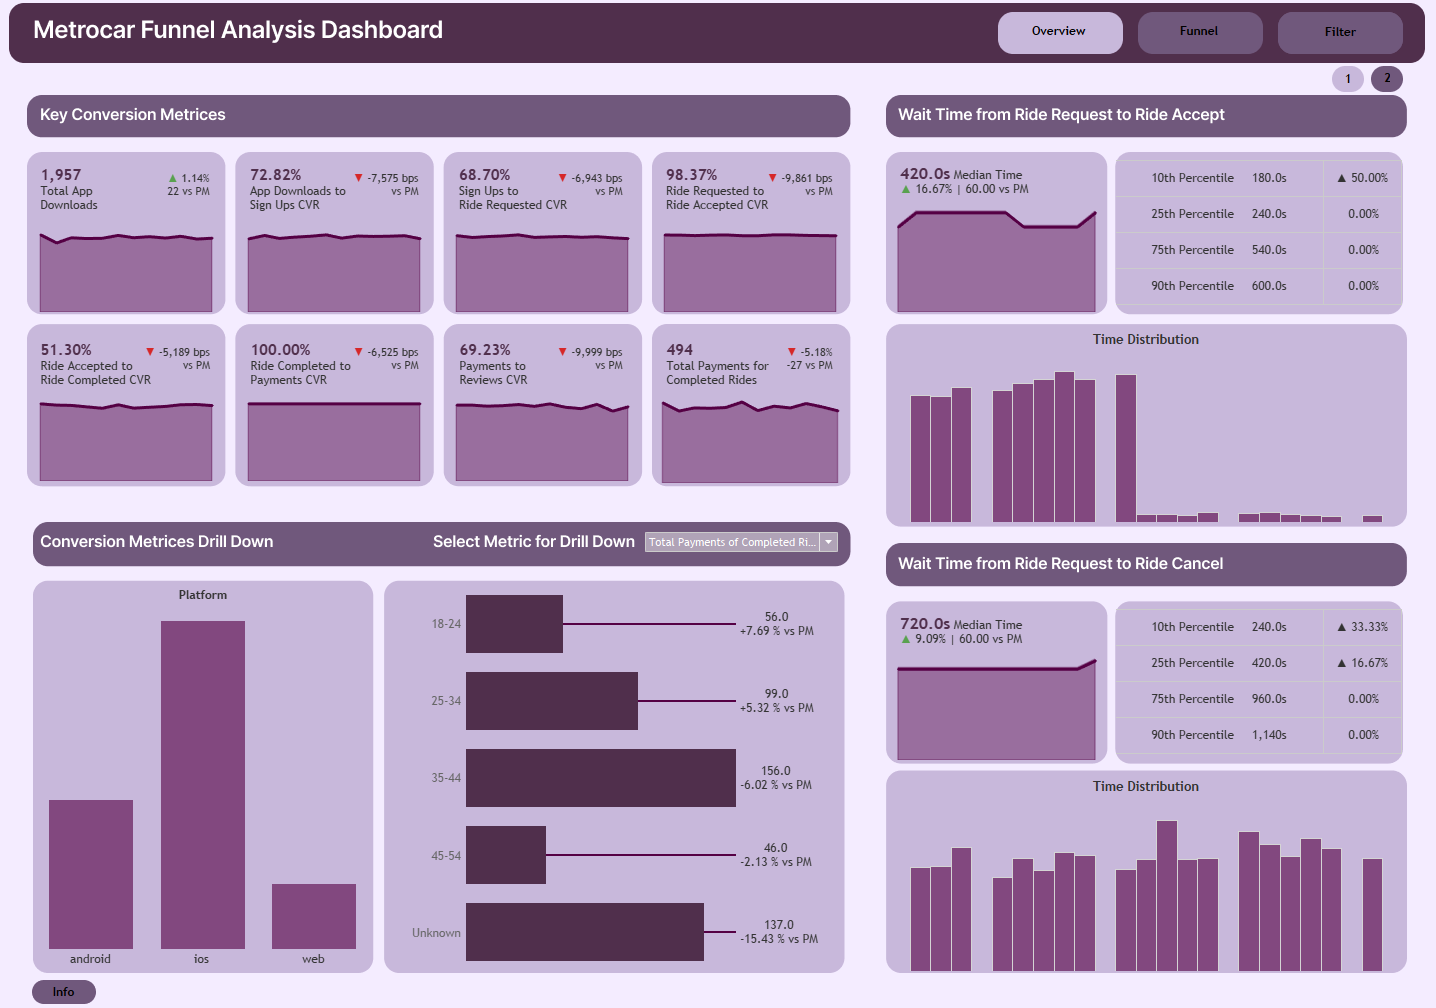

The dashboard page shown, as its layout file describes it:
{"tool":"tableau","page":{"name":"Overview-1","canvas":[1440,1024],"ordinal":1},"visuals":[{"type":"image","param":"Image/overview.png","box":[0,0,1440,1024]},{"type":"dashboard-object","box":[1002,18,122,44]},{"type":"dashboard-object","box":[1141,18,122,44]},{"type":"dashboard-object","box":[1281,20,125,42]},{"type":"text","box":[1324,35,39,9]},{"type":"image","param":"Image/Rectangle 77.png","box":[1335,74,32,26]},{"type":"text","box":[1335,74,32,26]},{"type":"image","param":"Image/Rectangle 76.png","box":[1374,74,32,26]},{"type":"dashboard-object","box":[1374,74,32,26]},{"type":"parameter","param":"[Parameters].[Parameter 1]","box":[1173,75,190,41]},{"type":"worksheet","title":"Download KPI-1","mark":"Automatic","box":[39,160,153,74]},{"type":"worksheet","title":"Download to Signup KPI-1","mark":"Text","box":[249,160,154,73]},{"type":"worksheet","title":"Sign up to Ride Requested KPI-1","mark":"Automatic","box":[458,160,154,73]},{"type":"worksheet","title":"Ride Requested to Ride Accepted KPI-1","mark":"Automatic","box":[665,160,154,73]},{"type":"worksheet","title":"Median Request Accept KPI","mark":"Text","box":[899,161,154,54]},{"type":"worksheet","title":"Request Accept Percentiles","mark":"Text","rows":["Calculation_496521912047079485","Calculation_99079249032933411","Calculation_99079249032962085","Calculation_99079249032990759"],"cols":["Calculation_496521912047079485"],"box":[1119,168,207,145]},{"type":"worksheet","title":"MoM Percentile Change Request Accept","mark":"Text","rows":["Calculation_496521912047079485","Calculation_496521912047079485","Calculation_496521912047079485","Calculation_496521912047079485"],"cols":["Calculation_496521912047079485"],"box":[1326,168,79,145]},{"type":"worksheet","title":"Download KPI-2","mark":"Automatic","box":[99,174,117,37]},{"type":"worksheet","title":"Download to Signup KPI-2","mark":"Automatic","box":[308,174,117,37]},{"type":"worksheet","title":"Sign up to Ride Requested KPI-2","mark":"Automatic","box":[512,174,117,37]},{"type":"worksheet","title":"Ride Requested to Ride Accepted KPI-2","mark":"Automatic","box":[722,174,117,37]},{"type":"worksheet","title":"Request Accept Trend","mark":"Area","rows":["Median Accept Pickup (copy)_1374723843191959574","Median Accept Pickup (copy)_1374723843191959574"],"cols":["ride_date"],"box":[890,212,219,110]},{"type":"worksheet","title":"Downloads Trend","mark":"Automatic","rows":["user_count","user_count"],"cols":["download_date"],"box":[31,235,196,87]},{"type":"worksheet","title":"DownloadToSignup Trend","mark":"Automatic","rows":["CM DownloadToSignUp (copy)_496521912060788817","CM DownloadToSignUp (copy)_496521912060788817"],"cols":["download_date"],"box":[239,235,196,87]},{"type":"worksheet","title":"SignuptoRideRequested Trend","mark":"Automatic","rows":["CM Downloads (copy)_496521911942713344","CM Downloads (copy)_496521911942713344"],"cols":["download_date"],"box":[447,235,196,87]},{"type":"worksheet","title":"RideRequestedtoRideAccepted Trend","mark":"Automatic","rows":["SignUpToRideRequested (copy)_496521912016769056","SignUpToRideRequested (copy)_496521912016769056"],"cols":["download_date"],"box":[655,235,196,87]},{"type":"text","box":[1093,333,112,30]},{"type":"worksheet","title":"Ride Accepted to Ride Completed KPI-1","mark":"Automatic","box":[39,335,153,74]},{"type":"worksheet","title":"Ride Completed to Payments KPI-1","mark":"Automatic","box":[249,335,153,74]},{"type":"worksheet","title":"Payments to Reviews KPI-1","mark":"Automatic","box":[458,335,153,74]},{"type":"worksheet","title":"Payments KPI-1","mark":"Automatic","box":[665,335,153,74]},{"type":"worksheet","title":"Ride Accepted to Ride Completed KPI-2","mark":"Automatic","box":[99,348,118,37]},{"type":"worksheet","title":"Payments to Reviews KPI-2","mark":"Automatic","box":[308,348,117,37]},{"type":"worksheet","title":"Ride Completed to Payments KPI-2","mark":"Automatic","box":[512,348,117,37]},{"type":"worksheet","title":"Payments KPI-2","mark":"Automatic","box":[722,348,117,37]},{"type":"worksheet","title":"Request Accept","mark":"Bar","rows":["Calculation_1374723843147661313"],"cols":["Diff Request Accept (bin)"],"box":[889,371,520,159]},{"type":"worksheet","title":"RideAcceptedtoRideCompleted Trend","mark":"Automatic","rows":["RideRequestedToRideAccepted (copy)_496521912023040042","RideRequestedToRideAccepted (copy)_496521912023040042"],"cols":["download_date"],"box":[31,404,196,87]},{"type":"worksheet","title":"RideCompletedtoPayments Trend","mark":"Automatic","rows":["CM RideCompletedToPayments (copy)_496521912063410258","CM RideCompletedToPayments (copy)_496521912063410258"],"cols":["download_date"],"box":[239,404,196,87]},{"type":"worksheet","title":"PaymentstoReviews Trend","mark":"Automatic","rows":["CM PaymentsToReviews (copy)_496521912064897107","CM PaymentsToReviews (copy)_496521912064897107"],"cols":["download_date"],"box":[447,404,196,87]},{"type":"worksheet","title":"Payments Trend","mark":"Automatic","rows":["user_count","user_count"],"cols":["download_date"],"box":[655,404,196,87]},{"type":"parameter","param":"[Parameters].[Parameter 2]","box":[645,538,199,24]},{"type":"worksheet","title":"KPI by Platform","mark":"Automatic","rows":["Calculation_1743174584093454337"],"cols":["platform"],"box":[36,591,339,388]},{"type":"worksheet","title":"KPI by Age","mark":"Bar","rows":["age_range"],"cols":["Calculation_1743174584093454337"],"box":[387,591,461,390]},{"type":"worksheet","title":"Median Request Cancel KPI","mark":"Automatic","box":[899,611,154,54]},{"type":"worksheet","title":"Request Cancel Percentiles","mark":"Text","rows":["Calculation_496521912047079485","Calculation_99079249032933411","Calculation_99079249032962085","Calculation_99079249032990759"],"cols":["Calculation_496521912047079485"],"box":[1119,617,207,145]},{"type":"worksheet","title":"MoM Percentile Change Request Cancel","mark":"Text","rows":["Calculation_496521912047079485","Calculation_496521912047079485","Calculation_496521912047079485","Calculation_496521912047079485"],"cols":["Calculation_496521912047079485"],"box":[1326,617,79,145]},{"type":"worksheet","title":"Request Cancel Trend","mark":"Area","rows":["Median Request Accept (copy)_1374723843198009373","Median Request Accept (copy)_1374723843198009373"],"cols":["ride_date"],"box":[890,660,219,110]},{"type":"text","box":[1093,780,112,30]},{"type":"worksheet","title":"Request Cancel","mark":"Bar","rows":["Calculation_1374723843147661313"],"cols":["Diff Request Cancel (bin)"],"box":[889,820,520,159]},{"type":"text","box":[104,902,228,98]},{"type":"dashboard-object","box":[35,988,64,24]},{"type":"text","box":[47,995,39,9]}]}

Visuals, with their boxes in screenshot pixels (x1, y1, x2, y2), scaled from the page's 1440x1024 canvas onto the 1436x1008 screenshot:
image: (left=0, top=0, right=1435, bottom=1007)
dashboard-object: (left=999, top=18, right=1121, bottom=61)
dashboard-object: (left=1138, top=18, right=1259, bottom=61)
dashboard-object: (left=1277, top=20, right=1402, bottom=61)
text: (left=1320, top=34, right=1359, bottom=43)
image: (left=1331, top=73, right=1363, bottom=98)
text: (left=1331, top=73, right=1363, bottom=98)
image: (left=1370, top=73, right=1402, bottom=98)
dashboard-object: (left=1370, top=73, right=1402, bottom=98)
parameter: (left=1170, top=74, right=1359, bottom=114)
"Download KPI-1" worksheet: (left=39, top=158, right=191, bottom=230)
"Download to Signup KPI-1" worksheet (Text marks): (left=248, top=158, right=402, bottom=229)
"Sign up to Ride Requested KPI-1" worksheet: (left=457, top=158, right=610, bottom=229)
"Ride Requested to Ride Accepted KPI-1" worksheet: (left=663, top=158, right=817, bottom=229)
"Median Request Accept KPI" worksheet (Text marks): (left=897, top=158, right=1050, bottom=212)
"Request Accept Percentiles" worksheet (Text marks): (left=1116, top=165, right=1322, bottom=308)
"MoM Percentile Change Request Accept" worksheet (Text marks): (left=1322, top=165, right=1401, bottom=308)
"Download KPI-2" worksheet: (left=99, top=171, right=215, bottom=208)
"Download to Signup KPI-2" worksheet: (left=307, top=171, right=424, bottom=208)
"Sign up to Ride Requested KPI-2" worksheet: (left=511, top=171, right=627, bottom=208)
"Ride Requested to Ride Accepted KPI-2" worksheet: (left=720, top=171, right=837, bottom=208)
"Request Accept Trend" worksheet (Area marks): (left=888, top=209, right=1106, bottom=317)
"Downloads Trend" worksheet: (left=31, top=231, right=226, bottom=317)
"DownloadToSignup Trend" worksheet: (left=238, top=231, right=434, bottom=317)
"SignuptoRideRequested Trend" worksheet: (left=446, top=231, right=641, bottom=317)
"RideRequestedtoRideAccepted Trend" worksheet: (left=653, top=231, right=849, bottom=317)
text: (left=1090, top=328, right=1202, bottom=357)
"Ride Accepted to Ride Completed KPI-1" worksheet: (left=39, top=330, right=191, bottom=403)
"Ride Completed to Payments KPI-1" worksheet: (left=248, top=330, right=401, bottom=403)
"Payments to Reviews KPI-1" worksheet: (left=457, top=330, right=609, bottom=403)
"Payments KPI-1" worksheet: (left=663, top=330, right=816, bottom=403)
"Ride Accepted to Ride Completed KPI-2" worksheet: (left=99, top=343, right=216, bottom=379)
"Payments to Reviews KPI-2" worksheet: (left=307, top=343, right=424, bottom=379)
"Ride Completed to Payments KPI-2" worksheet: (left=511, top=343, right=627, bottom=379)
"Payments KPI-2" worksheet: (left=720, top=343, right=837, bottom=379)
"Request Accept" worksheet (Bar marks): (left=887, top=365, right=1405, bottom=522)
"RideAcceptedtoRideCompleted Trend" worksheet: (left=31, top=398, right=226, bottom=483)
"RideCompletedtoPayments Trend" worksheet: (left=238, top=398, right=434, bottom=483)
"PaymentstoReviews Trend" worksheet: (left=446, top=398, right=641, bottom=483)
"Payments Trend" worksheet: (left=653, top=398, right=849, bottom=483)
parameter: (left=643, top=530, right=842, bottom=553)
"KPI by Platform" worksheet: (left=36, top=582, right=374, bottom=964)
"KPI by Age" worksheet (Bar marks): (left=386, top=582, right=846, bottom=966)
"Median Request Cancel KPI" worksheet: (left=897, top=601, right=1050, bottom=655)
"Request Cancel Percentiles" worksheet (Text marks): (left=1116, top=607, right=1322, bottom=750)
"MoM Percentile Change Request Cancel" worksheet (Text marks): (left=1322, top=607, right=1401, bottom=750)
"Request Cancel Trend" worksheet (Area marks): (left=888, top=650, right=1106, bottom=758)
text: (left=1090, top=768, right=1202, bottom=797)
"Request Cancel" worksheet (Bar marks): (left=887, top=807, right=1405, bottom=964)
text: (left=104, top=888, right=331, bottom=984)
dashboard-object: (left=35, top=973, right=99, bottom=996)
text: (left=47, top=979, right=86, bottom=988)
